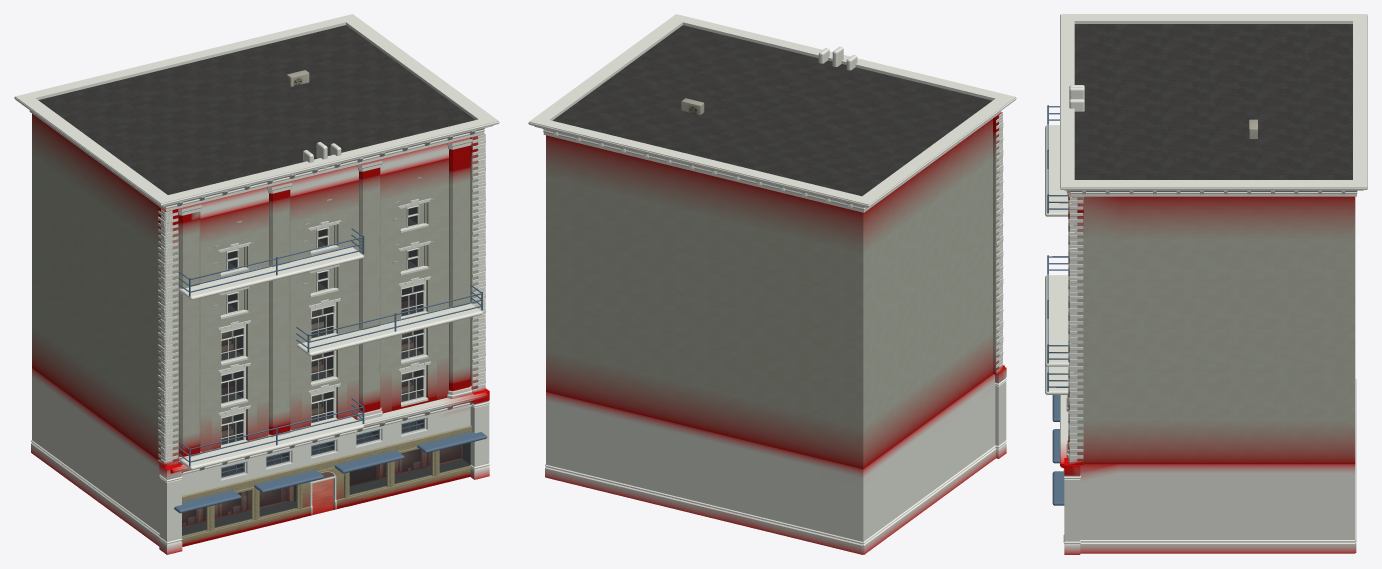
File: coastal-apartments.glb
3 views of the same model, side by side, from view 1: azimuth 30°, elevation 25°; view 2: azimuth 150°, elevation 25°; view 3: azimuth 270°, elevation 25° (orthographic). The views are drawn at different scales.
Visible parts, largest first — view 1: Building_Medium_2.001; view 2: Building_Medium_2.001; view 3: Building_Medium_2.001.
Part boxes in pixels (x1,y1,x2,y2): Building_Medium_2.001: (14,14,499,554); Building_Medium_2.001: (528,14,1016,554); Building_Medium_2.001: (1045,14,1367,554).
Size of the model in its own units: 16 by 16.55 by 12.58.
Materials: 14 (10 with a texture image).
